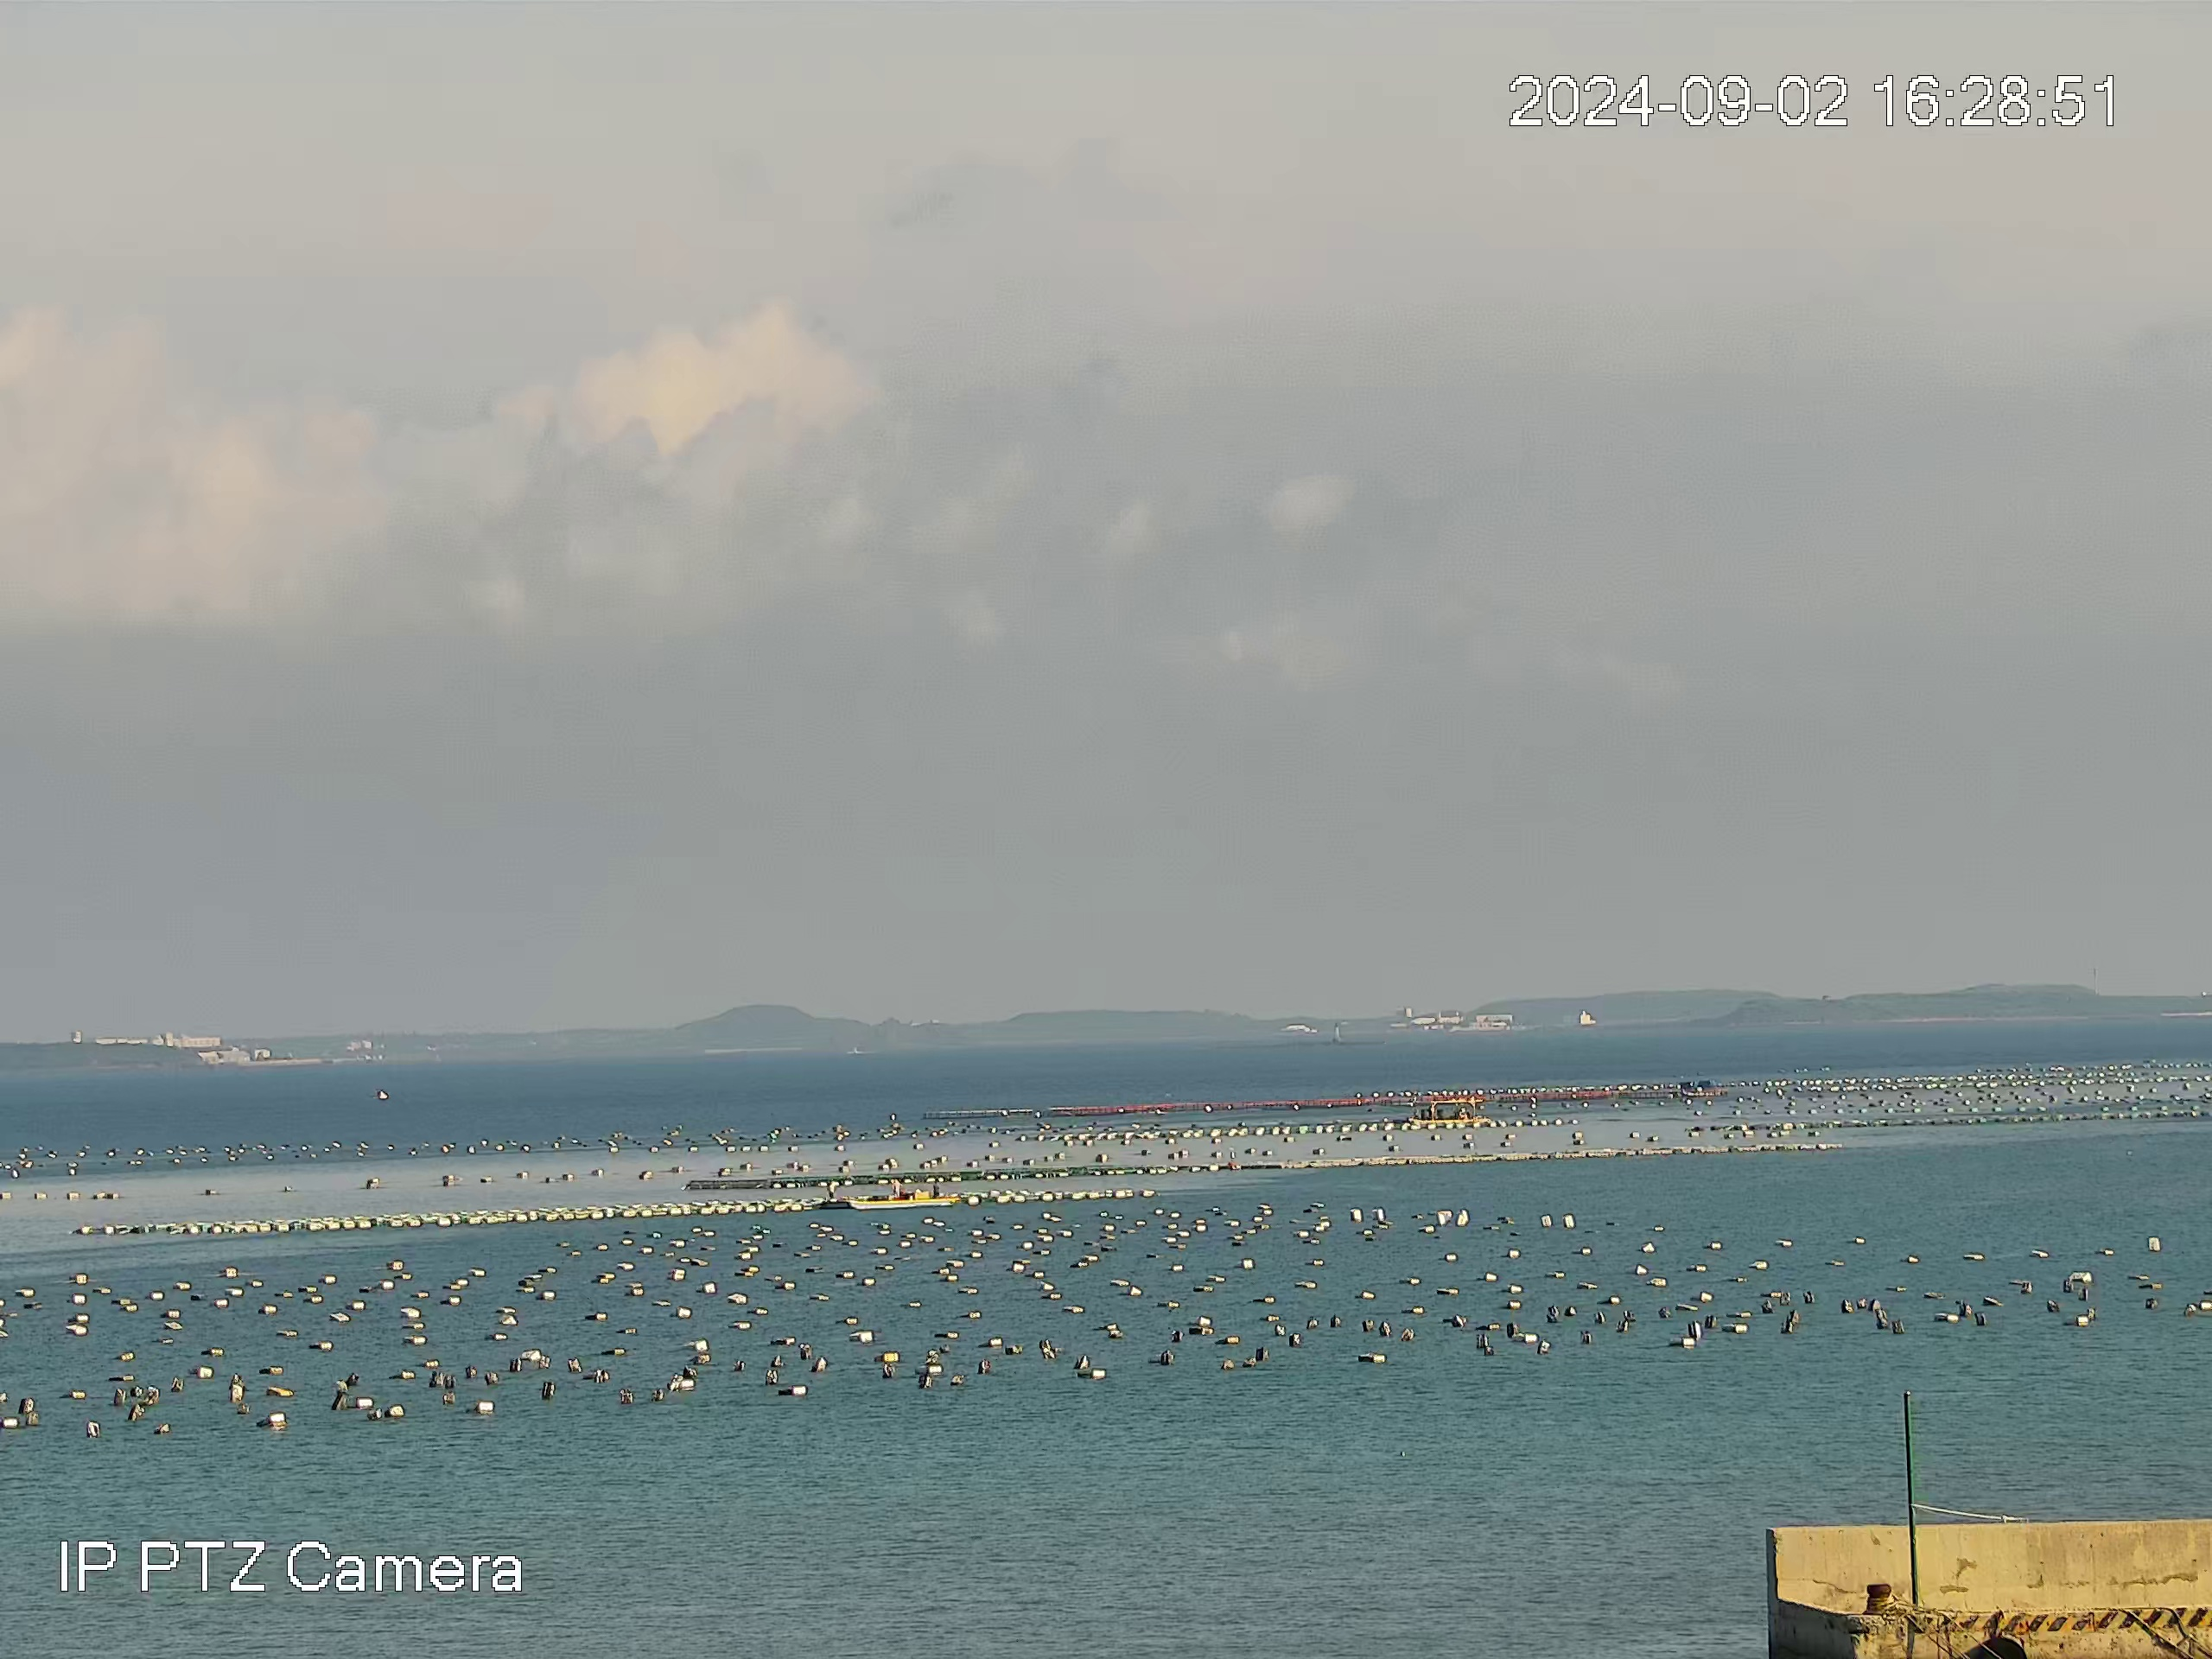boat: (843, 1178, 961, 1211), (1406, 1096, 1486, 1124)
